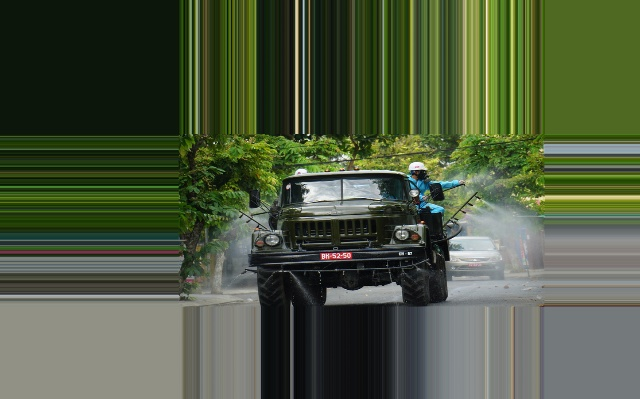plate: (320, 250, 352, 261)
